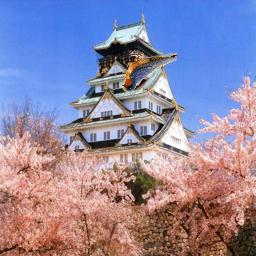Swallow: (121, 49, 178, 93)
